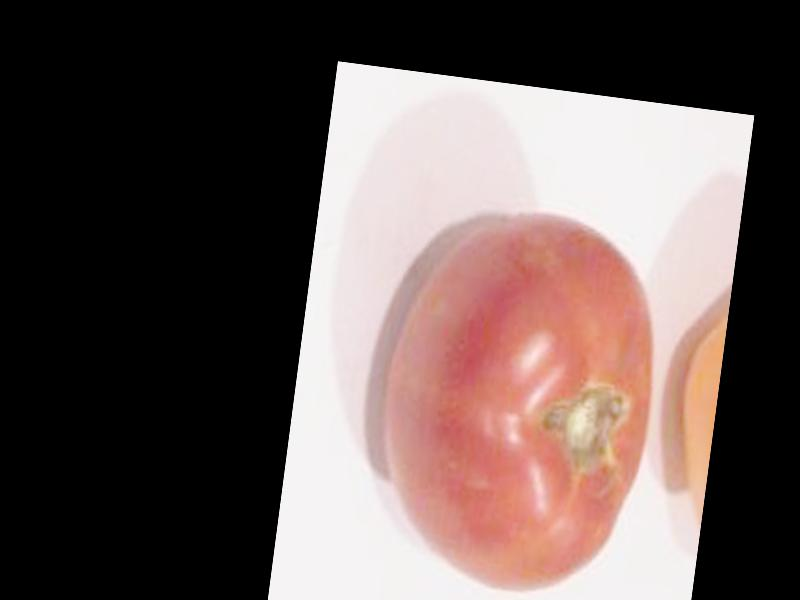Tomato: (366, 200, 671, 600)
